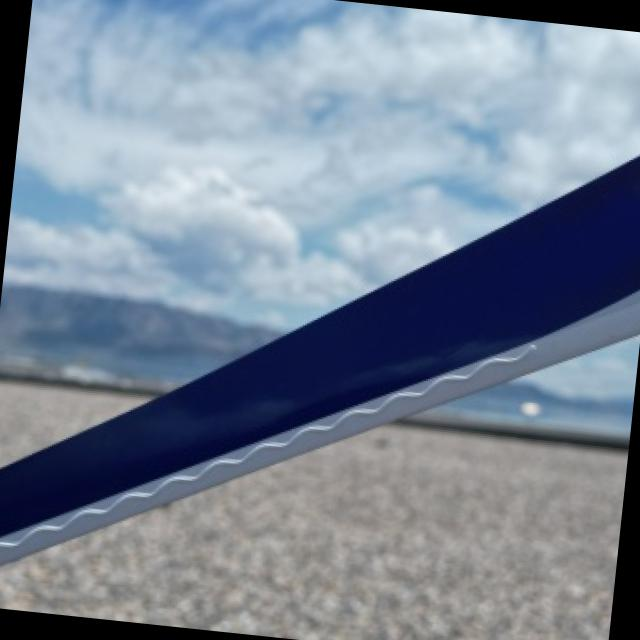healthy: (0, 154, 640, 561), (0, 424, 628, 640)
